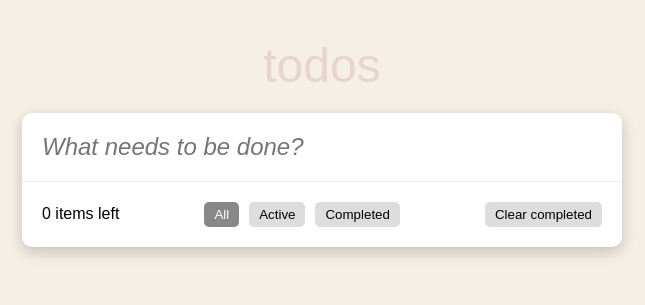
Scenario: Todo App › adds a new todo
This screenshot has width=645, height=305.
Type "New Task" into the field with test id "todo-input" at (309, 147), box [32,123,586,171]
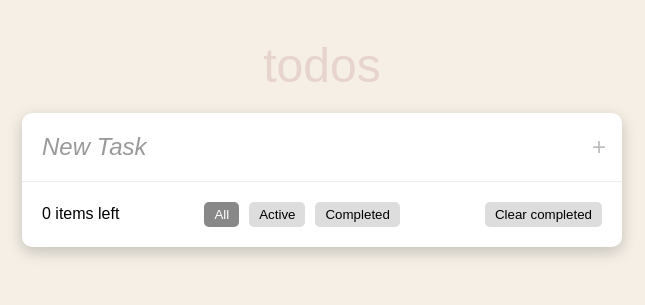
Click the button with test id "add-todo-button" at (599, 147), box [586,132,612,162]
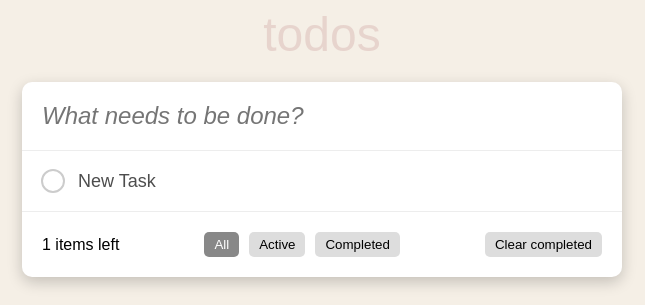
Check: the list item "New Task" is shown, box [22,151,622,212]
